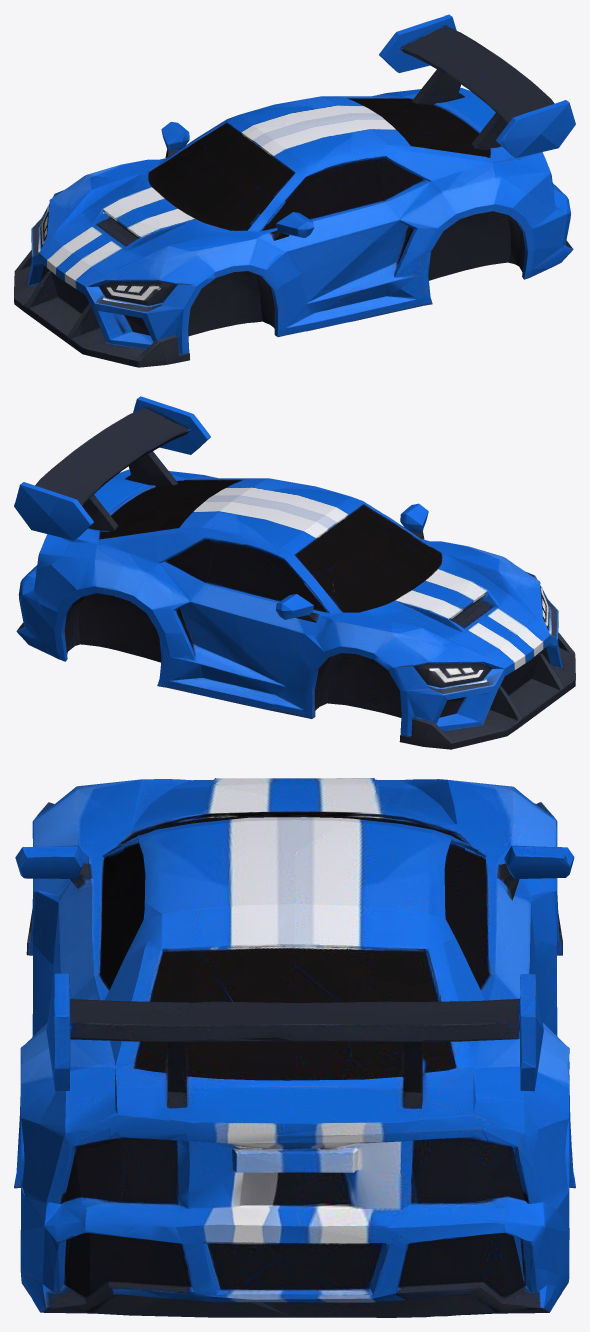
Rendered from deportivo.glb.
3 views of the same model, one above another, from view 1: azimuth 30°, elevation 25°; view 2: azimuth 150°, elevation 25°; view 3: azimuth 270°, elevation 25° (orthographic). The views are drawn at different scales.
Size of the model in its own units: 1.9 by 0.6073 by 0.9773.
Materials: 1 (1 with a texture image).
